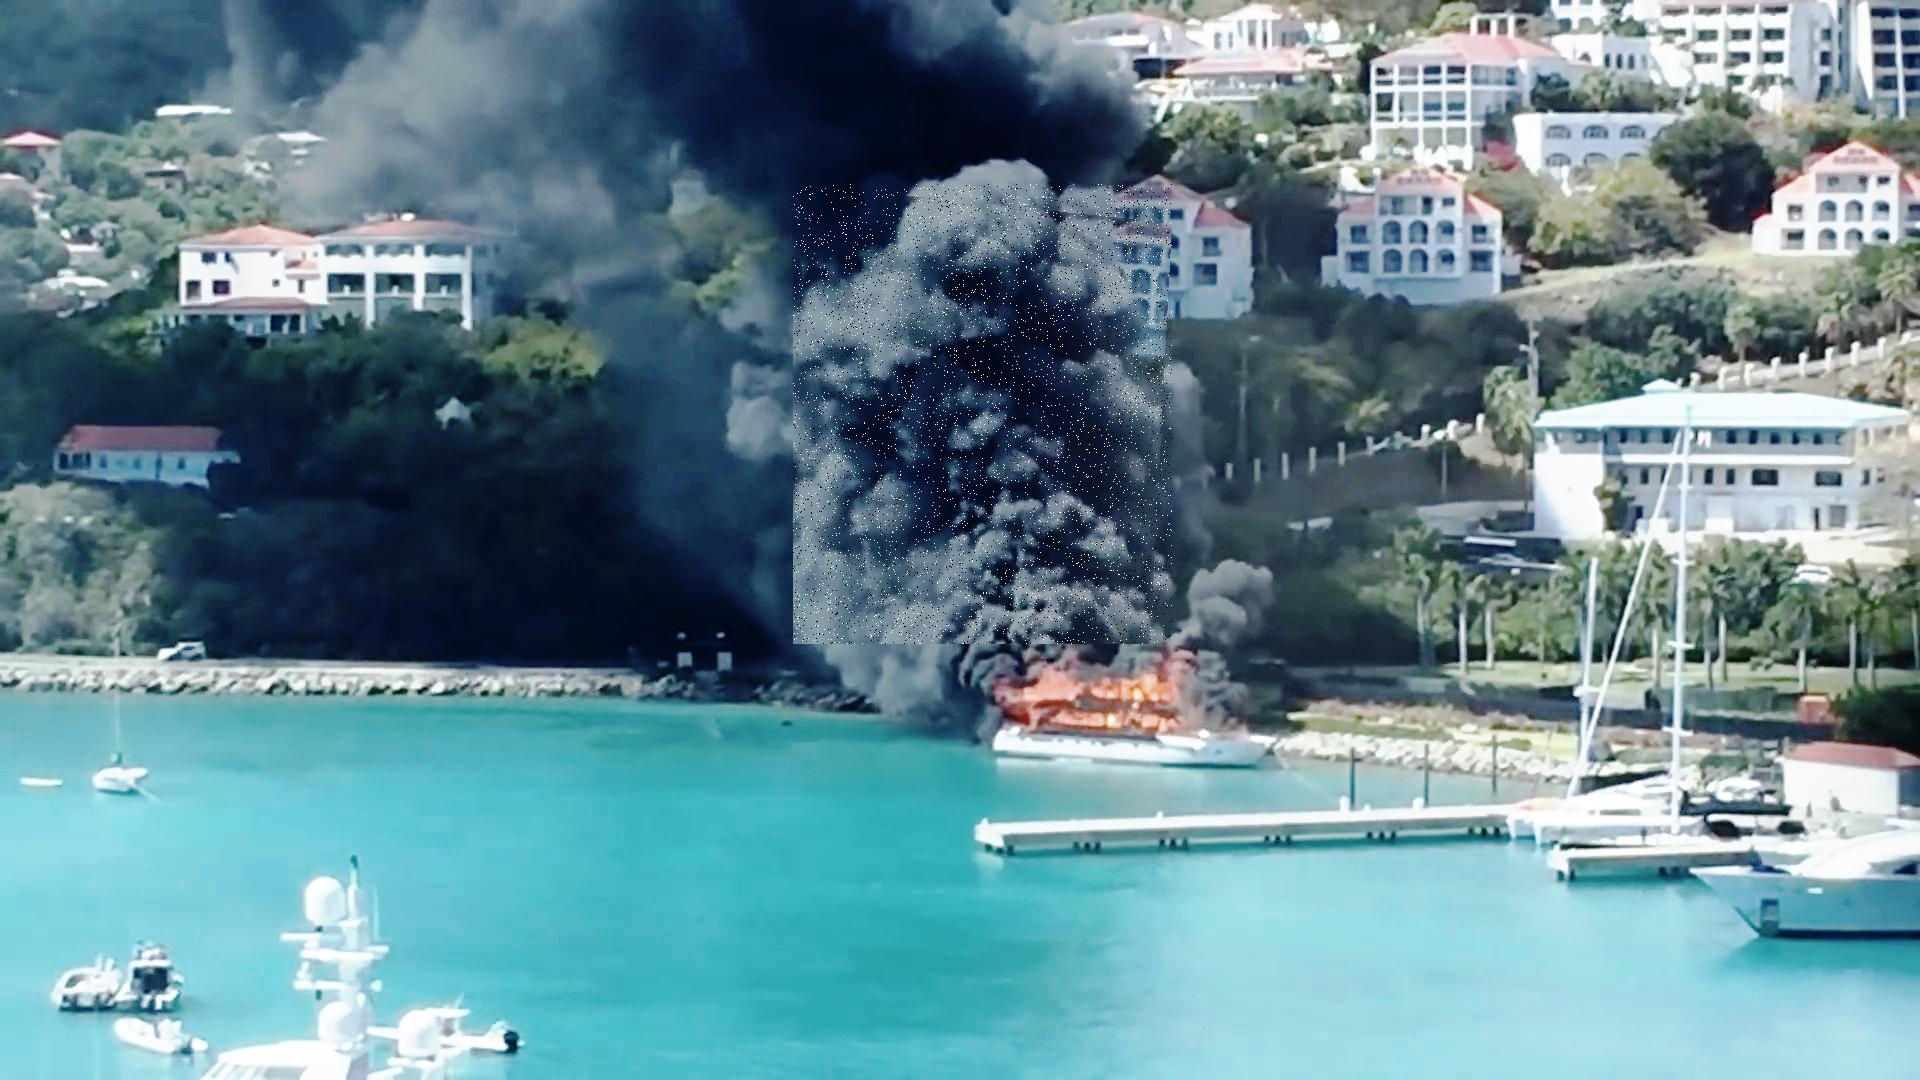smoke: (794, 185, 1172, 645)
